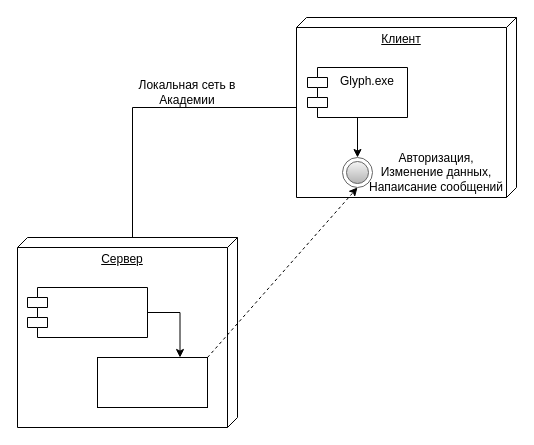
Image size: 534x445. Some labels were removed from this diagram. Here are the shapes that lost their labels. From the top down, the centre of each, then its label:
point 87,312: Glyph Server.exe
point 152,382: БД
